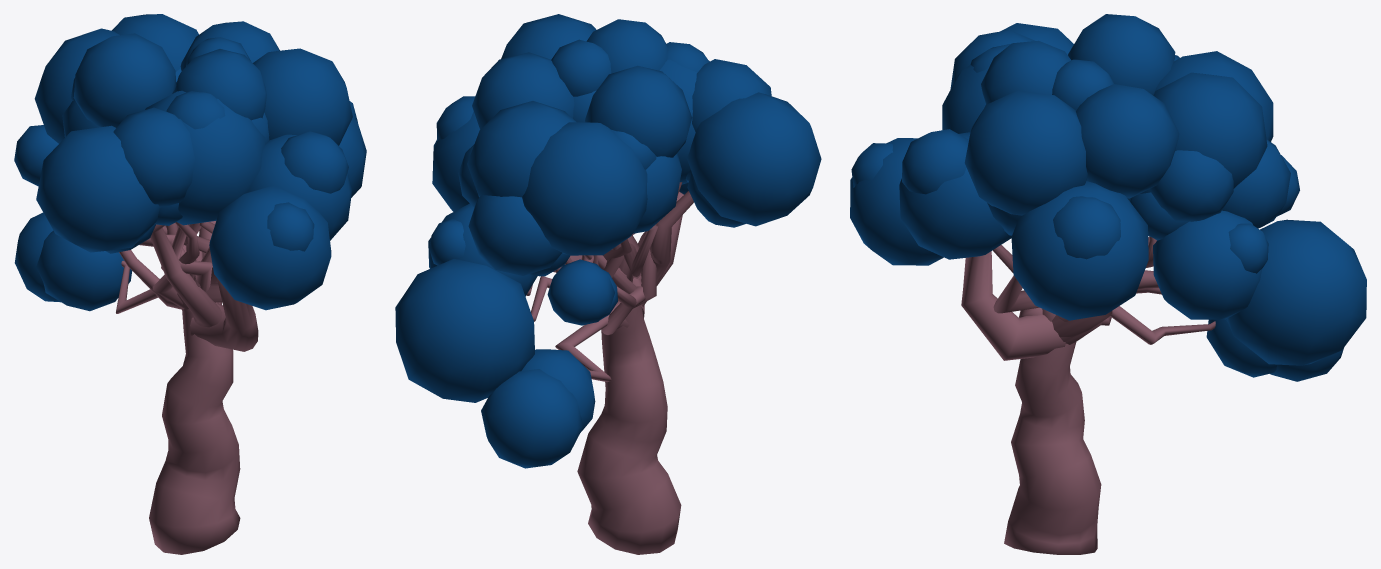
The model's file is AddisonTree.fbx.
The picture shows the model from 3 angles, left to right: view 1: azimuth 30°, elevation 25°; view 2: azimuth 150°, elevation 25°; view 3: azimuth 270°, elevation 25°; orthographic projection. The views are drawn at different scales.
Parts seen in each view (by area): view 1: merge1; view 2: merge1; view 3: merge1.
Boxes of the visible parts, x1,y1,x2,y2 form: merge1: [14, 14, 366, 554]; merge1: [395, 14, 821, 554]; merge1: [850, 14, 1366, 554].
Bounding box in the file's own units: 11.98 × 16.71 × 15.05.
